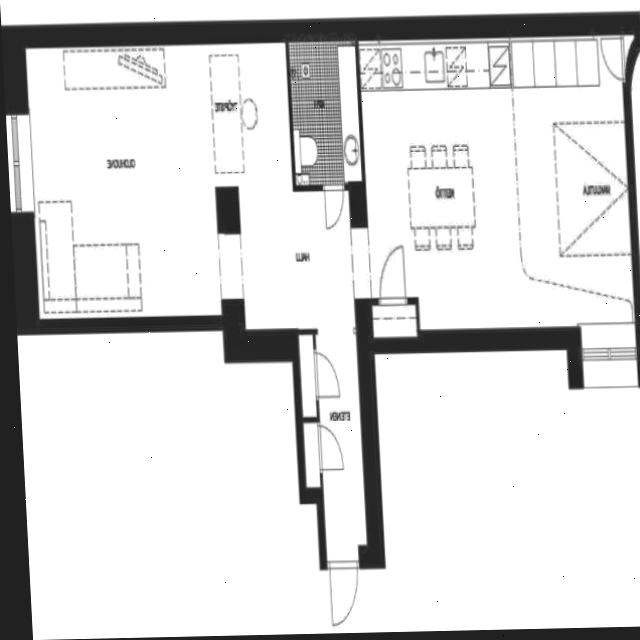room: (289, 39, 362, 187), (299, 335, 317, 416), (372, 305, 417, 337), (303, 423, 320, 487)
